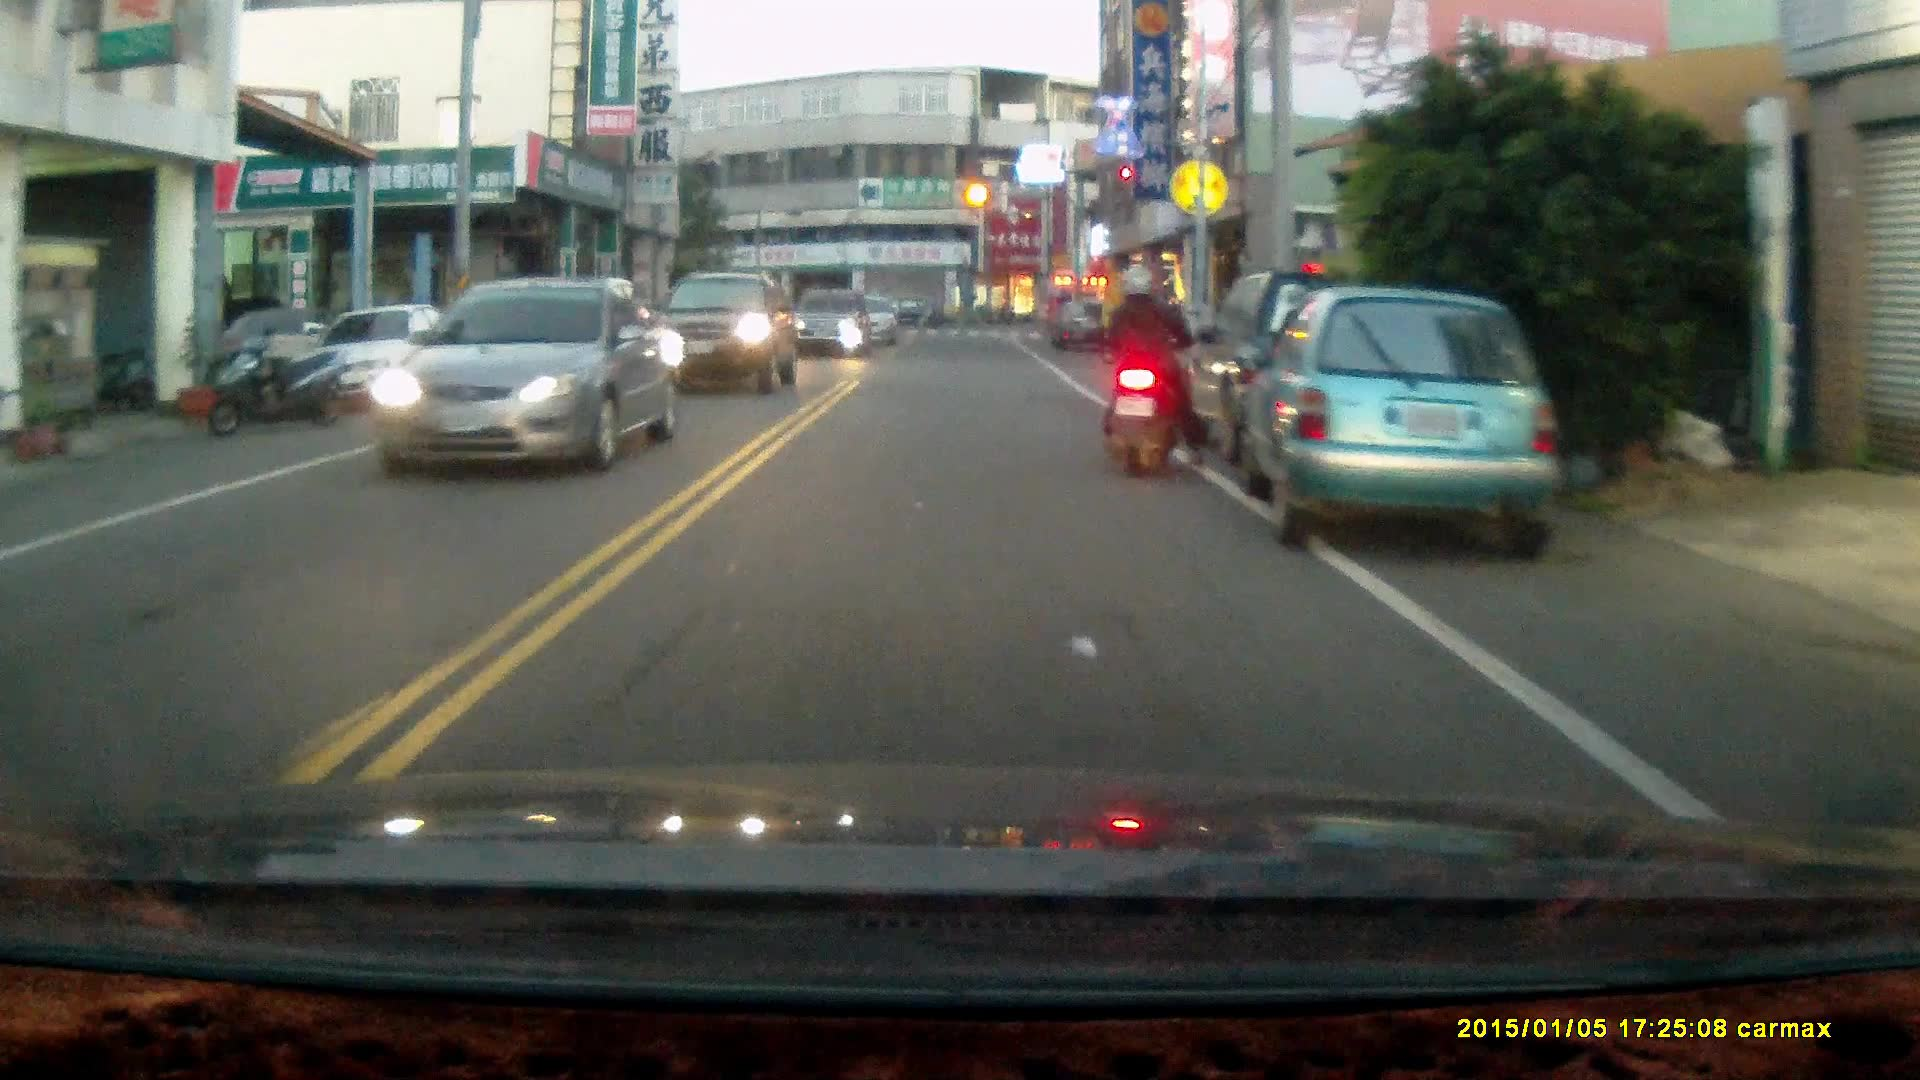rider: (1100, 264, 1204, 478)
vehicle: (1237, 287, 1567, 563), (369, 280, 679, 479), (1161, 269, 1454, 470), (282, 303, 489, 410), (651, 272, 799, 396), (787, 293, 874, 360)
